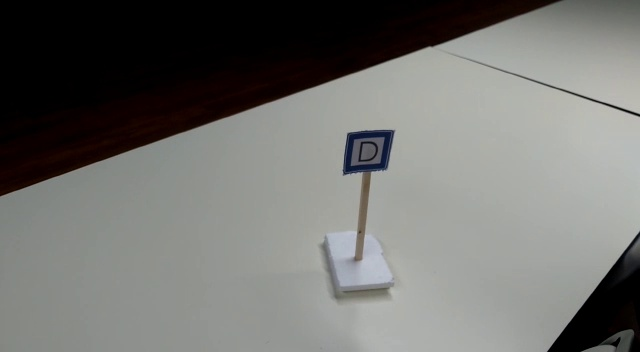durak: (343, 130, 394, 173)
